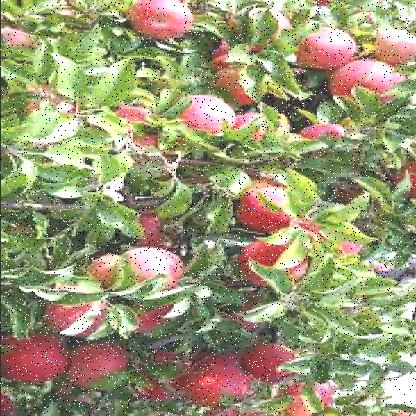apple: (234, 230, 306, 289), (44, 280, 112, 342), (234, 184, 296, 238), (68, 338, 132, 390), (184, 363, 256, 405), (118, 249, 184, 294), (13, 331, 70, 383), (343, 61, 407, 102), (245, 340, 304, 383), (130, 0, 192, 38), (177, 95, 239, 132), (300, 27, 352, 68), (373, 28, 416, 60)
